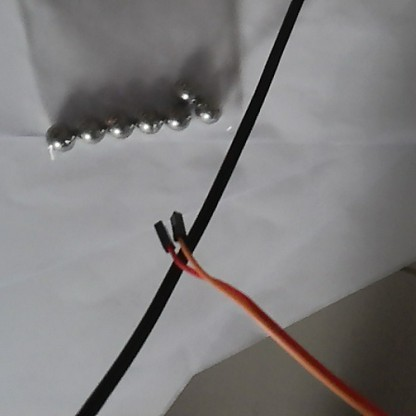ironball: (104, 110, 135, 141), (194, 96, 222, 125), (43, 121, 73, 148), (132, 108, 162, 134), (76, 118, 103, 146), (168, 79, 195, 105), (167, 107, 193, 131)
